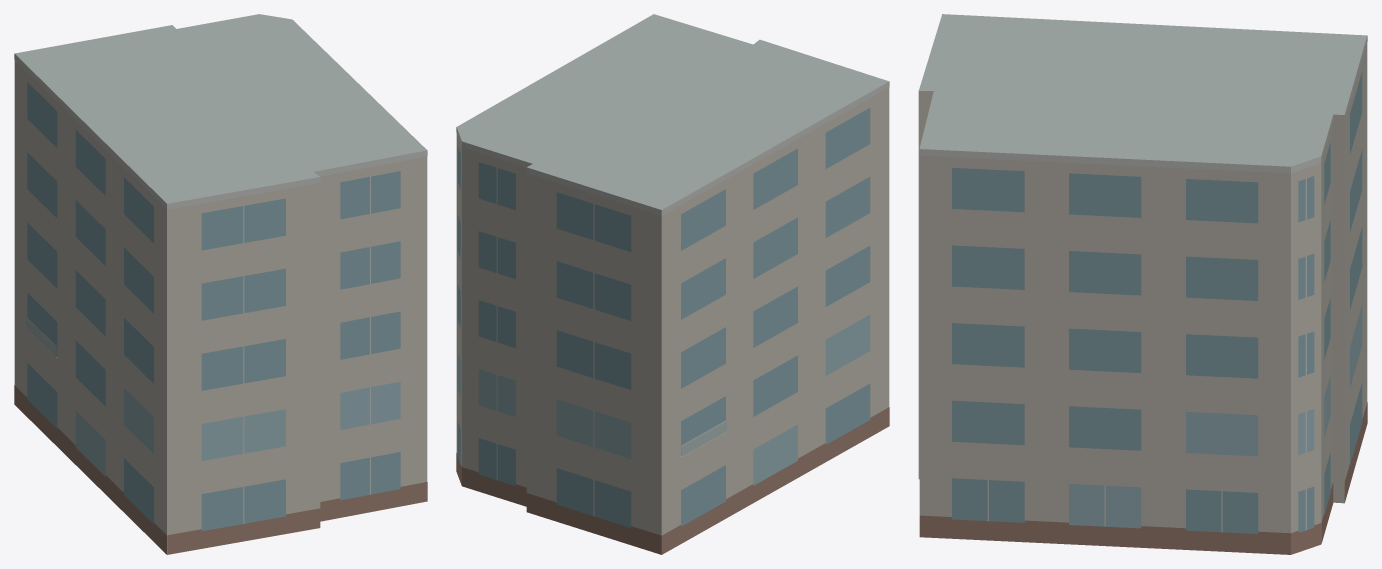
The model's file is survey-upis-33045526.glb.
The picture shows the model from 3 angles, left to right: view 1: azimuth 30°, elevation 25°; view 2: azimuth 150°, elevation 25°; view 3: azimuth 270°, elevation 25°; orthographic projection. The views are drawn at different scales.
Visible parts, largest first — view 1: survey-upis-33045526.tmp; view 2: survey-upis-33045526.tmp; view 3: survey-upis-33045526.tmp.
Part boxes in pixels (<box>): survey-upis-33045526.tmp: <box>14,14,427,554</box>; survey-upis-33045526.tmp: <box>456,14,889,554</box>; survey-upis-33045526.tmp: <box>918,14,1367,554</box>.
Bounding box in the file's own units: 12.16 × 14.4 × 15.1.
